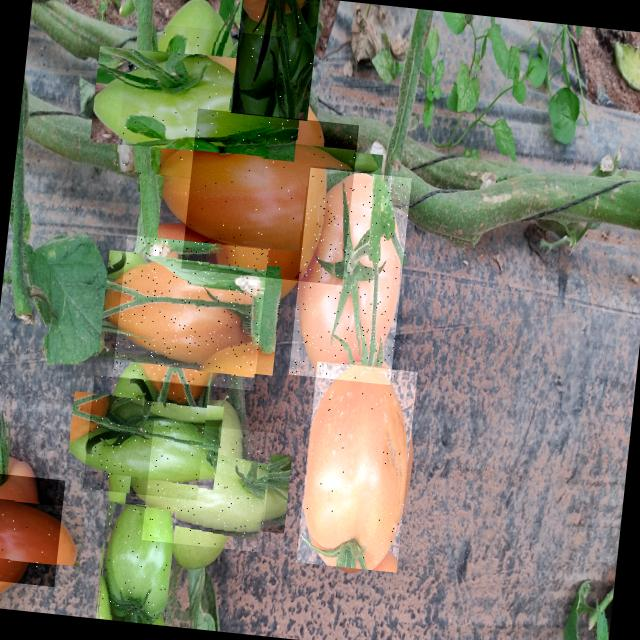Ripe Tomato: (180, 108, 358, 285), (288, 167, 412, 385), (296, 361, 418, 572), (112, 234, 268, 390), (0, 471, 65, 586)
Unripe Tomato: (114, 20, 280, 186), (141, 420, 273, 552), (82, 375, 208, 500), (230, 0, 319, 120), (95, 500, 176, 626)
